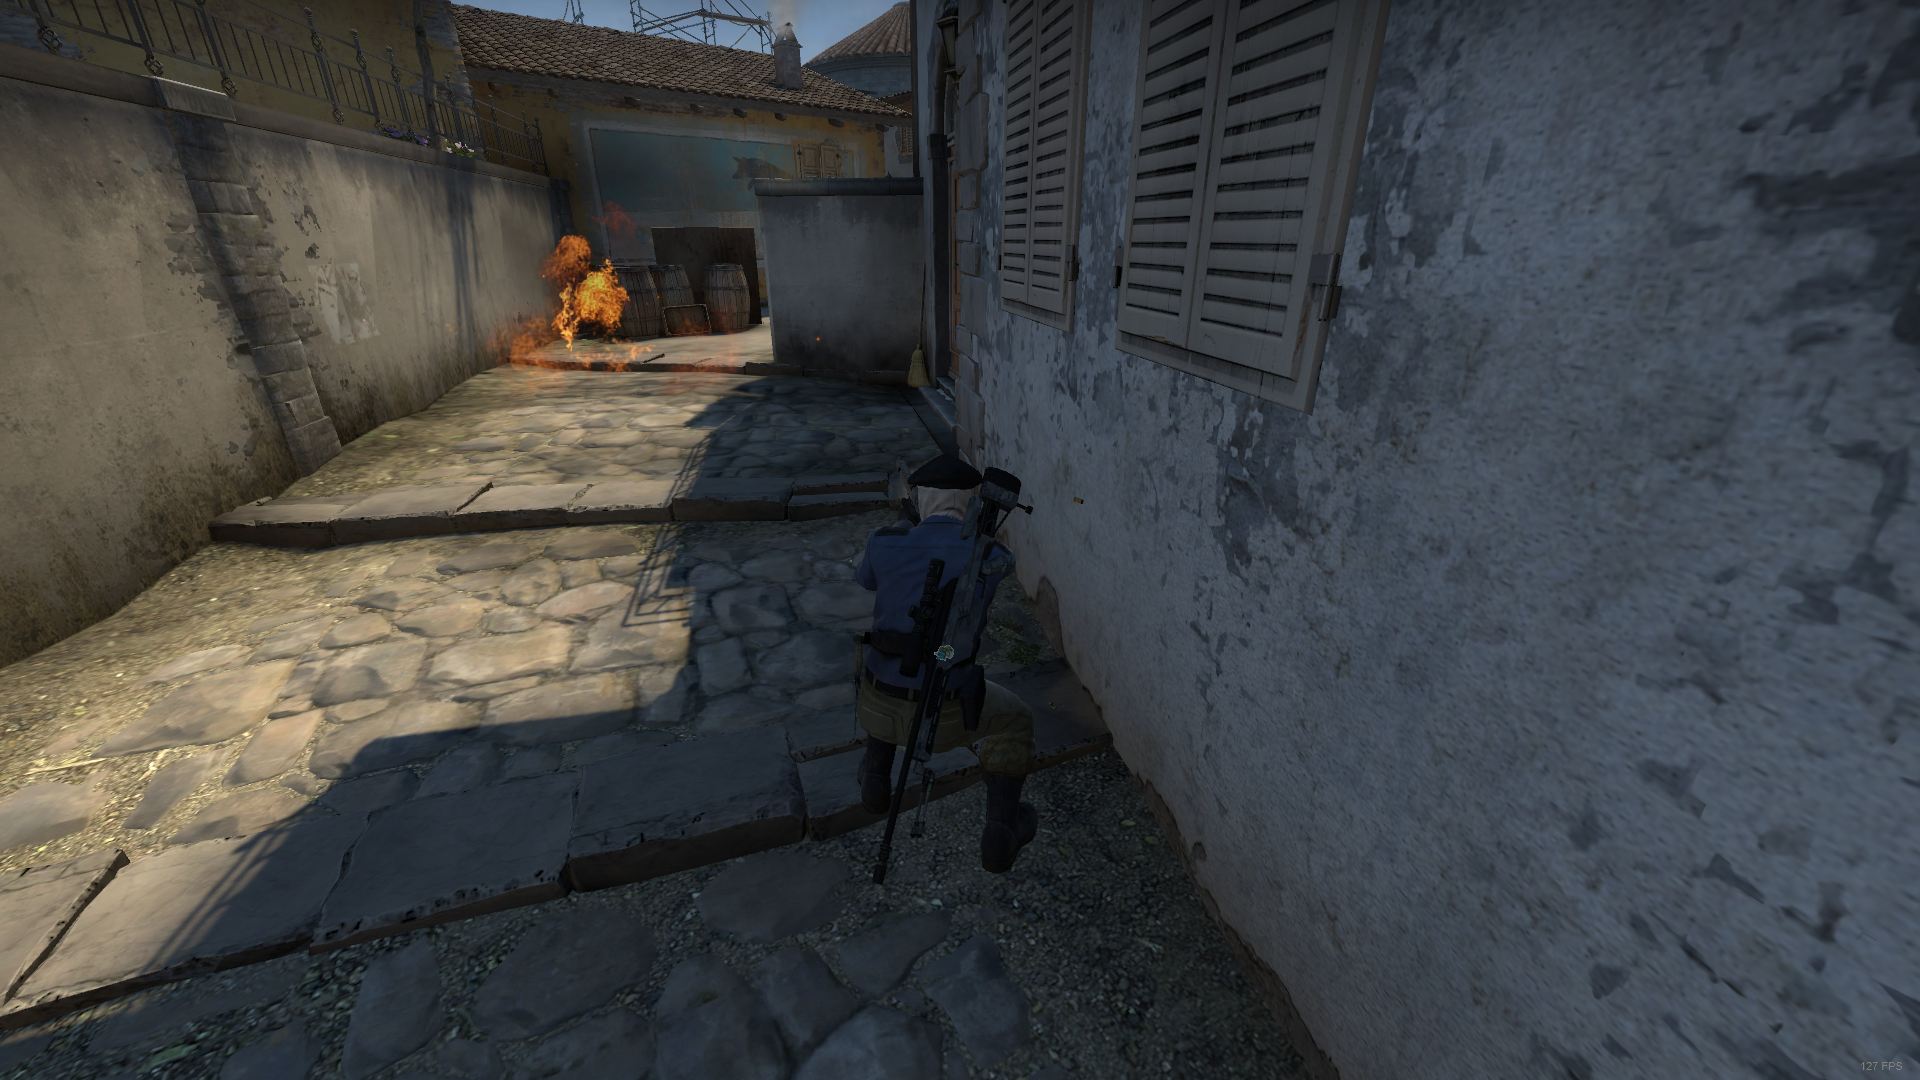t: (843, 448, 1068, 880)
